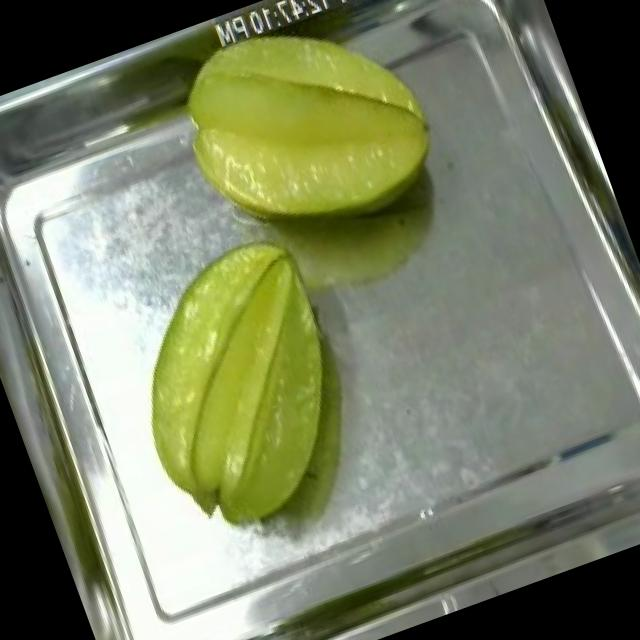fruit: (89, 217, 396, 564), (147, 0, 463, 273)
